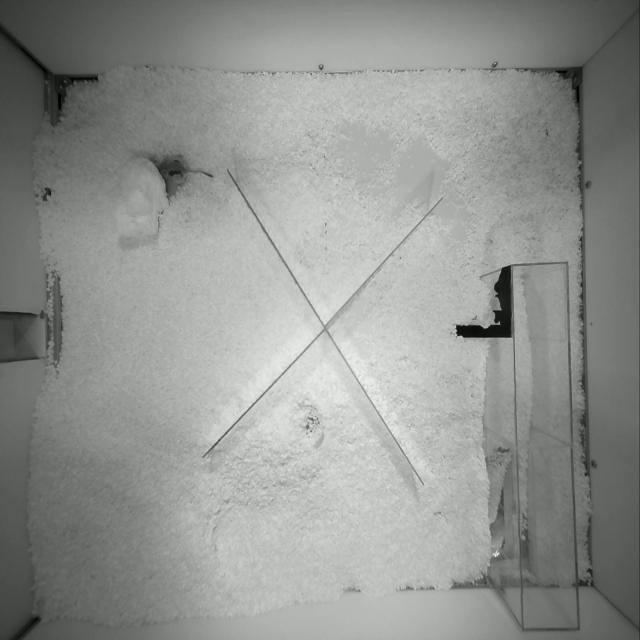pup_v_stripe: (158, 157, 210, 197)
